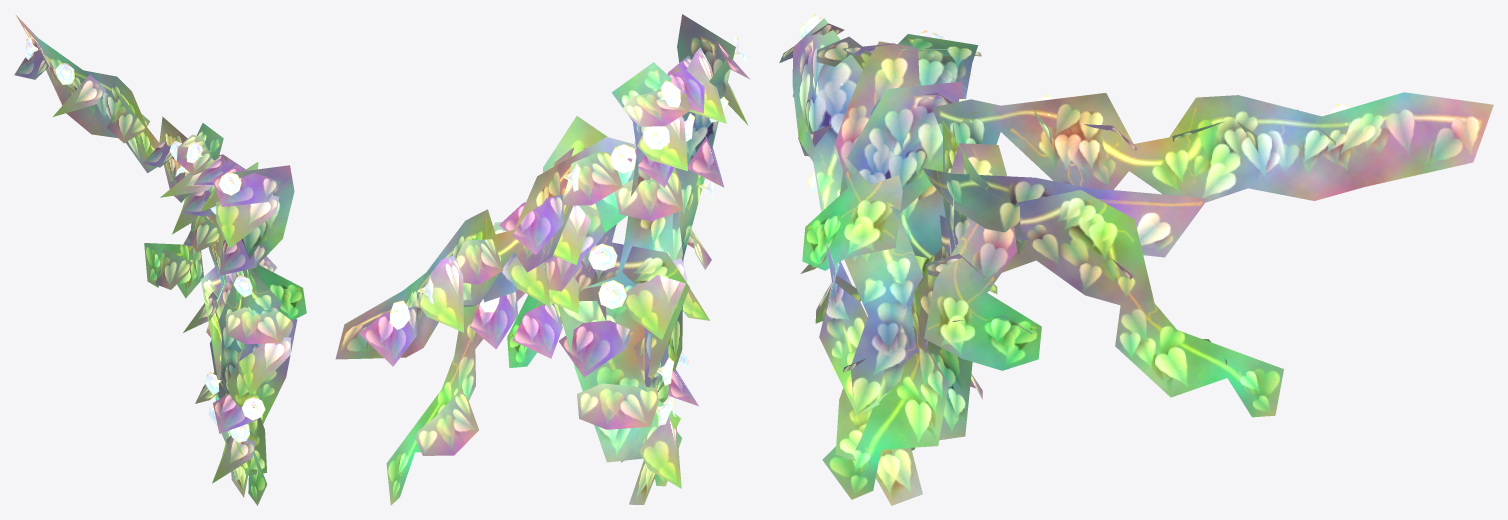
File: moonflower_01_SM.fbx
3 views of the same model, side by side, from view 1: azimuth 30°, elevation 25°; view 2: azimuth 150°, elevation 25°; view 3: azimuth 270°, elevation 25° (orthographic). The views are drawn at different scales.
Visible parts, largest first — view 1: moonflower_01_SM_LOD0; view 2: moonflower_01_SM_LOD0; view 3: moonflower_01_SM_LOD0.
Boxes of the visible parts, bbox=[...] form: moonflower_01_SM_LOD0: bbox=[14, 14, 306, 505]; moonflower_01_SM_LOD0: bbox=[335, 14, 749, 505]; moonflower_01_SM_LOD0: bbox=[779, 14, 1493, 505].
Bounding box in the file's own units: 135 × 563 × 403.
Materials: 2 (2 with a texture image).
